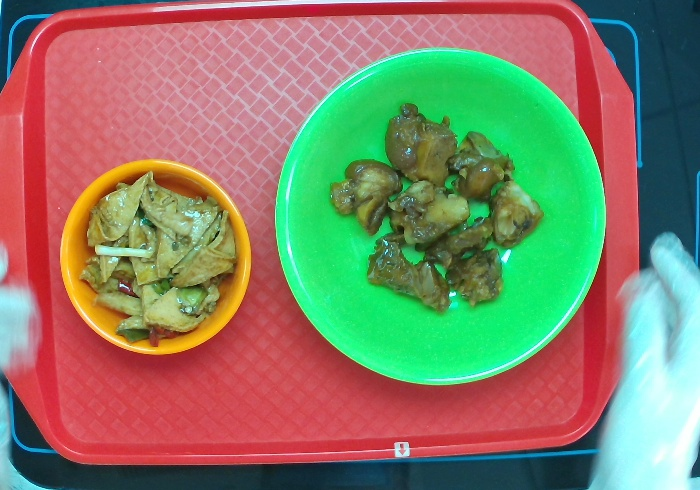YKMZ-Ju_Se_Yuan_Wan: (58, 149, 259, 363)
YKMZ-Lv_Se_Tang_Wan: (271, 43, 615, 390)
